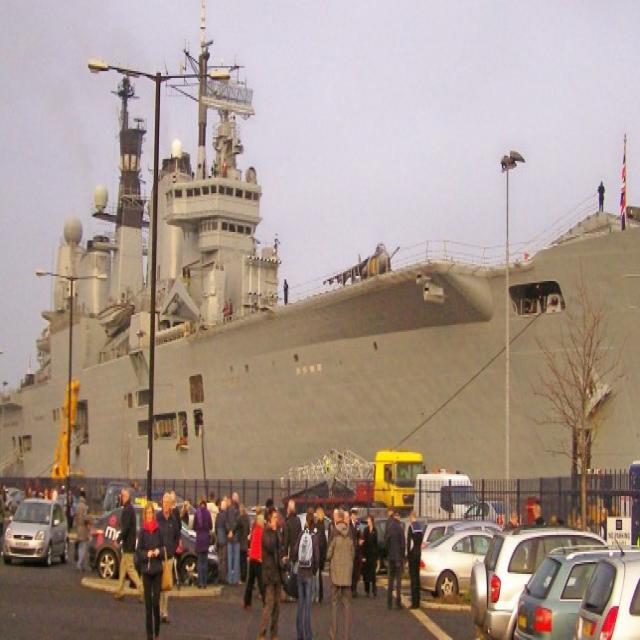Portanaves: (1, 1, 640, 577)
